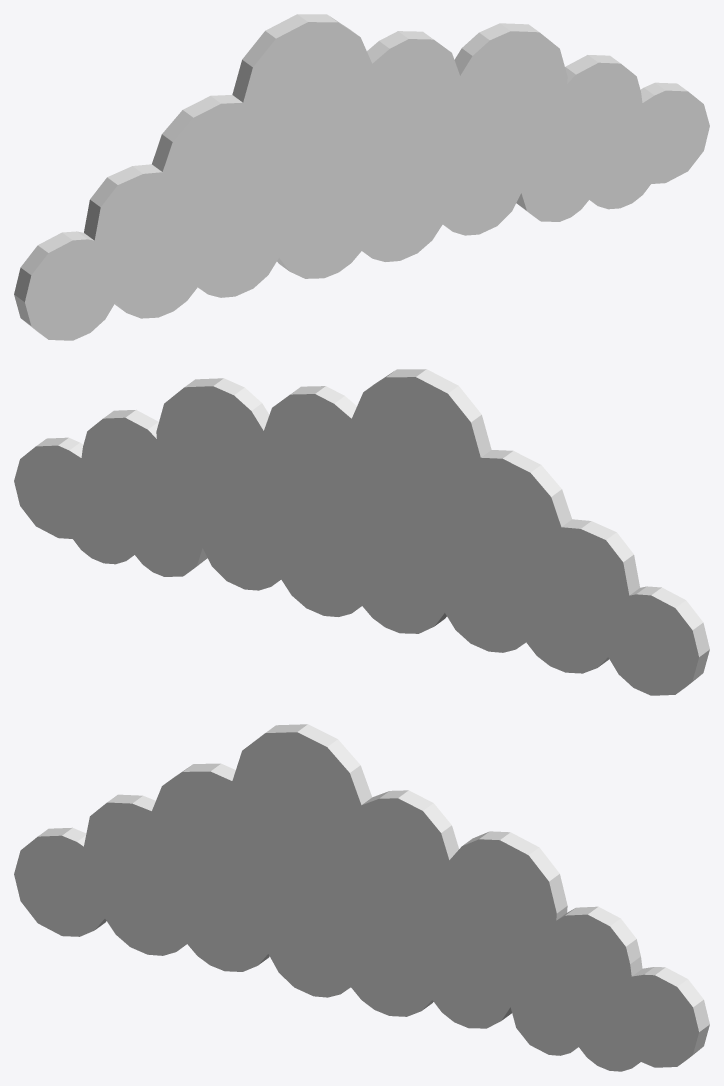
File: cartoon_cloud_5.fbx
3 views of the same model, one above another, from view 1: azimuth 30°, elevation 25°; view 2: azimuth 150°, elevation 25°; view 3: azimuth 330°, elevation 25° (orthographic).
Parts seen in each view (by area): view 1: cloud_75; view 2: cloud_75; view 3: cloud_75.
Boxes of the visible parts, x1,y1,x2,y2 form: cloud_75: (14,14,709,340); cloud_75: (14,369,709,695); cloud_75: (14,724,709,1071).
Bounding box in the file's own units: 732 × 268 × 20.
